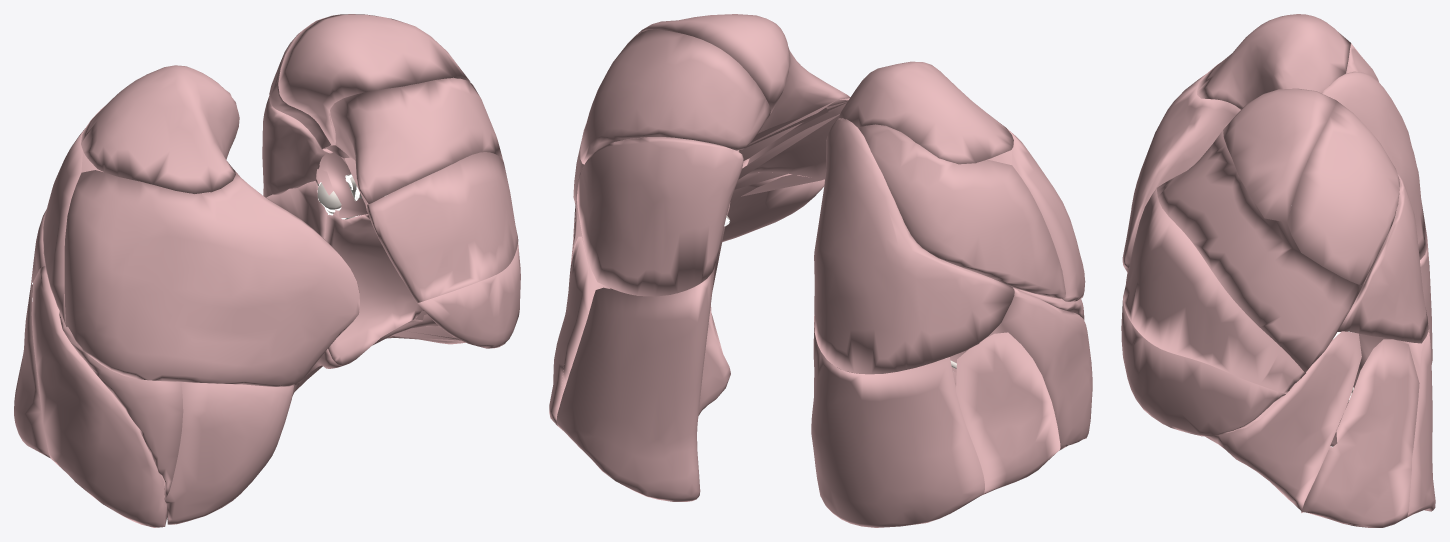
The model's file is 3d-vh-f-lung-40.glb.
The picture shows the model from 3 angles, left to right: view 1: azimuth 30°, elevation 25°; view 2: azimuth 150°, elevation 25°; view 3: azimuth 270°, elevation 25°; orthographic projection. The views are drawn at different scales.
Parts seen in each view (by area): view 1: VH_F_right_anterior_bronchopulmonary_segm, VH_F_right_anterior_basal_bronchopulmonary_segment, VH_F_lingula_superior_bronchopulmonary_segment, VH_F_right_apical_bronchopulmonary_segment, VH_F_left_anterior_bronchopulmonary_segment, VH_F_left_apical_bronchopulmonary_segment, VH_F_right_medial_bronchopulmonary_segment, VH_F_left_medial_basal_bronchopulmonary_segment, VH_F_lingula_inferior_bronchopulmonary_segment, VH_F_right_lateral_bronchopulmonary_segmennt, VH_F_left_superior_bronchopulmonary_segment, VH_F_right_posterior_bronchopulmonary_segment (+5 smaller); view 2: VH_F_right_superior_bronchopulmonary_segment, VH_F_left_posterior_basal_bronchopulmonary_segment, VH_F_right_posterior_basal_bronchopulmonary_segment, VH_F_left_superior_bronchopulmonary_segment, VH_F_right_posterior_bronchopulmonary_segment, VH_F_left_posterior_bronchopulmonary_segment, VH_F_right_lateral_basal_bronchopulmonary_segment, VH_F_right_apical_bronchopulmonary_segment, VH_F_right_anterior_basal_bronchopulmonary_segment, VH_F_left_apical_bronchopulmonary_segment, VH_F_lingula_superior_bronchopulmonary_segment, VH_F_left_anterior_bronchopulmonary_segment (+4 smaller); view 3: VH_F_left_anterior_bronchopulmonary_segment, VH_F_lingula_superior_bronchopulmonary_segment, VH_F_left_lateral_basal_bronchopulmonary_segment, VH_F_left_posterior_bronchopulmonary_segment, VH_F_left_anterior_basal_bronchopulmonary_segment, VH_F_lingula_inferior_bronchopulmonary_segment, VH_F_left_apical_bronchopulmonary_segment, VH_F_right_apical_bronchopulmonary_segment, VH_F_left_superior_bronchopulmonary_segment, VH_F_right_anterior_bronchopulmonary_segm, VH_F_right_superior_bronchopulmonary_segment, VH_F_left_posterior_basal_bronchopulmonary_segment (+2 smaller).
Part boxes in pixels (left/top/right/bottom): VH_F_right_anterior_bronchopulmonary_segm: left=64, top=170, right=359, bottom=387; VH_F_right_anterior_basal_bronchopulmonary_segment: left=31, top=266, right=167, bottom=527; VH_F_lingula_superior_bronchopulmonary_segment: left=363, top=152, right=518, bottom=302; VH_F_right_apical_bronchopulmonary_segment: left=81, top=65, right=239, bottom=193; VH_F_left_anterior_bronchopulmonary_segment: left=329, top=78, right=503, bottom=204; VH_F_left_apical_bronchopulmonary_segment: left=278, top=14, right=470, bottom=145; VH_F_right_medial_bronchopulmonary_segment: left=164, top=382, right=293, bottom=524; VH_F_left_medial_basal_bronchopulmonary_segment: left=325, top=213, right=423, bottom=365; VH_F_lingula_inferior_bronchopulmonary_segment: left=417, top=242, right=520, bottom=348; VH_F_right_lateral_bronchopulmonary_segmennt: left=59, top=311, right=183, bottom=499; VH_F_left_superior_bronchopulmonary_segment: left=262, top=96, right=331, bottom=197; VH_F_right_posterior_bronchopulmonary_segment: left=43, top=106, right=104, bottom=326; VH_F_right_superior_bronchopulmonary_segment: left=814, top=118, right=1014, bottom=374; VH_F_left_posterior_basal_bronchopulmonary_segment: left=556, top=264, right=730, bottom=501; VH_F_right_posterior_basal_bronchopulmonary_segment: left=811, top=322, right=984, bottom=527; VH_F_left_superior_bronchopulmonary_segment: left=577, top=137, right=743, bottom=296; VH_F_right_posterior_bronchopulmonary_segment: left=859, top=124, right=1065, bottom=298; VH_F_left_posterior_bronchopulmonary_segment: left=580, top=29, right=770, bottom=164; VH_F_right_lateral_basal_bronchopulmonary_segment: left=952, top=332, right=1060, bottom=495; VH_F_right_apical_bronchopulmonary_segment: left=838, top=61, right=1013, bottom=164; VH_F_right_anterior_basal_bronchopulmonary_segment: left=950, top=288, right=1092, bottom=450; VH_F_left_apical_bronchopulmonary_segment: left=635, top=14, right=789, bottom=114; VH_F_lingula_superior_bronchopulmonary_segment: left=734, top=96, right=849, bottom=196; VH_F_left_anterior_bronchopulmonary_segment: left=573, top=46, right=850, bottom=205; VH_F_left_anterior_bronchopulmonary_segment: left=1157, top=129, right=1364, bottom=372; VH_F_lingula_superior_bronchopulmonary_segment: left=1123, top=188, right=1305, bottom=393; VH_F_left_lateral_basal_bronchopulmonary_segment: left=1301, top=339, right=1419, bottom=527; VH_F_left_posterior_bronchopulmonary_segment: left=1287, top=100, right=1399, bottom=284; VH_F_left_anterior_basal_bronchopulmonary_segment: left=1205, top=331, right=1361, bottom=512; VH_F_lingula_inferior_bronchopulmonary_segment: left=1121, top=300, right=1285, bottom=436; VH_F_left_apical_bronchopulmonary_segment: left=1223, top=88, right=1336, bottom=222; VH_F_right_apical_bronchopulmonary_segment: left=1197, top=14, right=1350, bottom=109; VH_F_left_superior_bronchopulmonary_segment: left=1337, top=174, right=1428, bottom=343; VH_F_right_anterior_bronchopulmonary_segm: left=1122, top=63, right=1240, bottom=273; VH_F_right_superior_bronchopulmonary_segment: left=1321, top=71, right=1427, bottom=259; VH_F_left_posterior_basal_bronchopulmonary_segment: left=1330, top=329, right=1435, bottom=517.
Size of the model in its own units: 0.2512 by 0.2231 by 0.1526.
